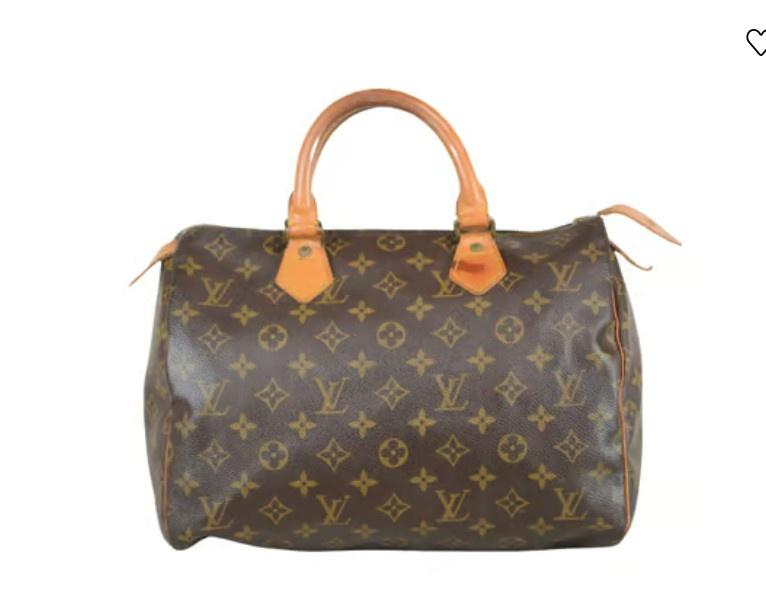LOUIS-VUITTON: (152, 224, 632, 544)
